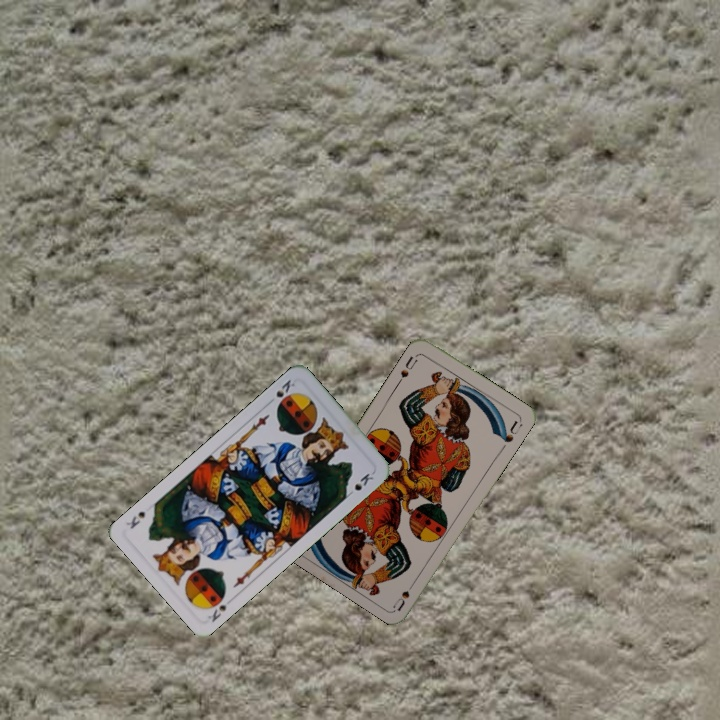SK: (203, 590, 229, 625), (272, 375, 298, 400)
SU: (389, 575, 419, 612), (394, 350, 421, 387)
